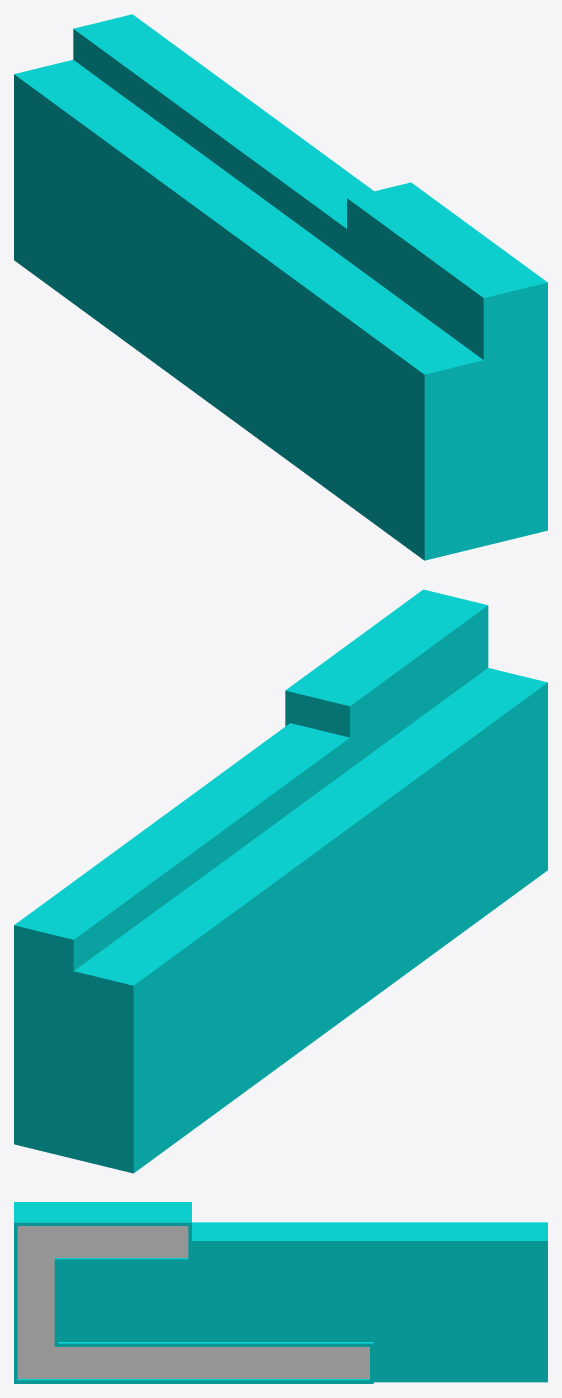
Rendered from OM_GF_Front_Desk.fbx.
3 renders of one model, top to bottom at view 1: azimuth 30°, elevation 25°; view 2: azimuth 150°, elevation 25°; view 3: azimuth 270°, elevation 25°, orthographic. The views are drawn at different scales.
Visible parts, largest first — view 1: OM_GF_Front_Desk_Main_Desk, OM_GF_Front_Desk_Border; view 2: OM_GF_Front_Desk_Main_Desk, OM_GF_Front_Desk_Border; view 3: OM_GF_Front_Desk_Main_Desk, OM_GF_Front_Desk_Light, OM_GF_Front_Desk_Border.
Boxes of the visible parts, x1,y1,x2,y2 form: OM_GF_Front_Desk_Main_Desk: (14, 14, 542, 560); OM_GF_Front_Desk_Border: (406, 182, 547, 531); OM_GF_Front_Desk_Main_Desk: (14, 590, 547, 1173); OM_GF_Front_Desk_Border: (285, 589, 427, 726); OM_GF_Front_Desk_Main_Desk: (14, 1202, 547, 1382); OM_GF_Front_Desk_Light: (17, 1226, 369, 1378); OM_GF_Front_Desk_Border: (14, 1221, 373, 1383).
Bounding box in the file's own units: 2.08 × 4 × 12.
